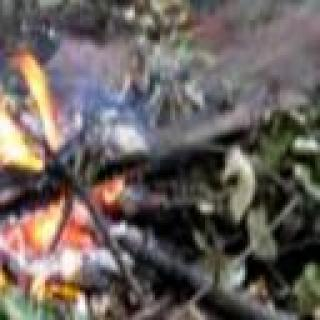fire: (0, 15, 104, 304)
